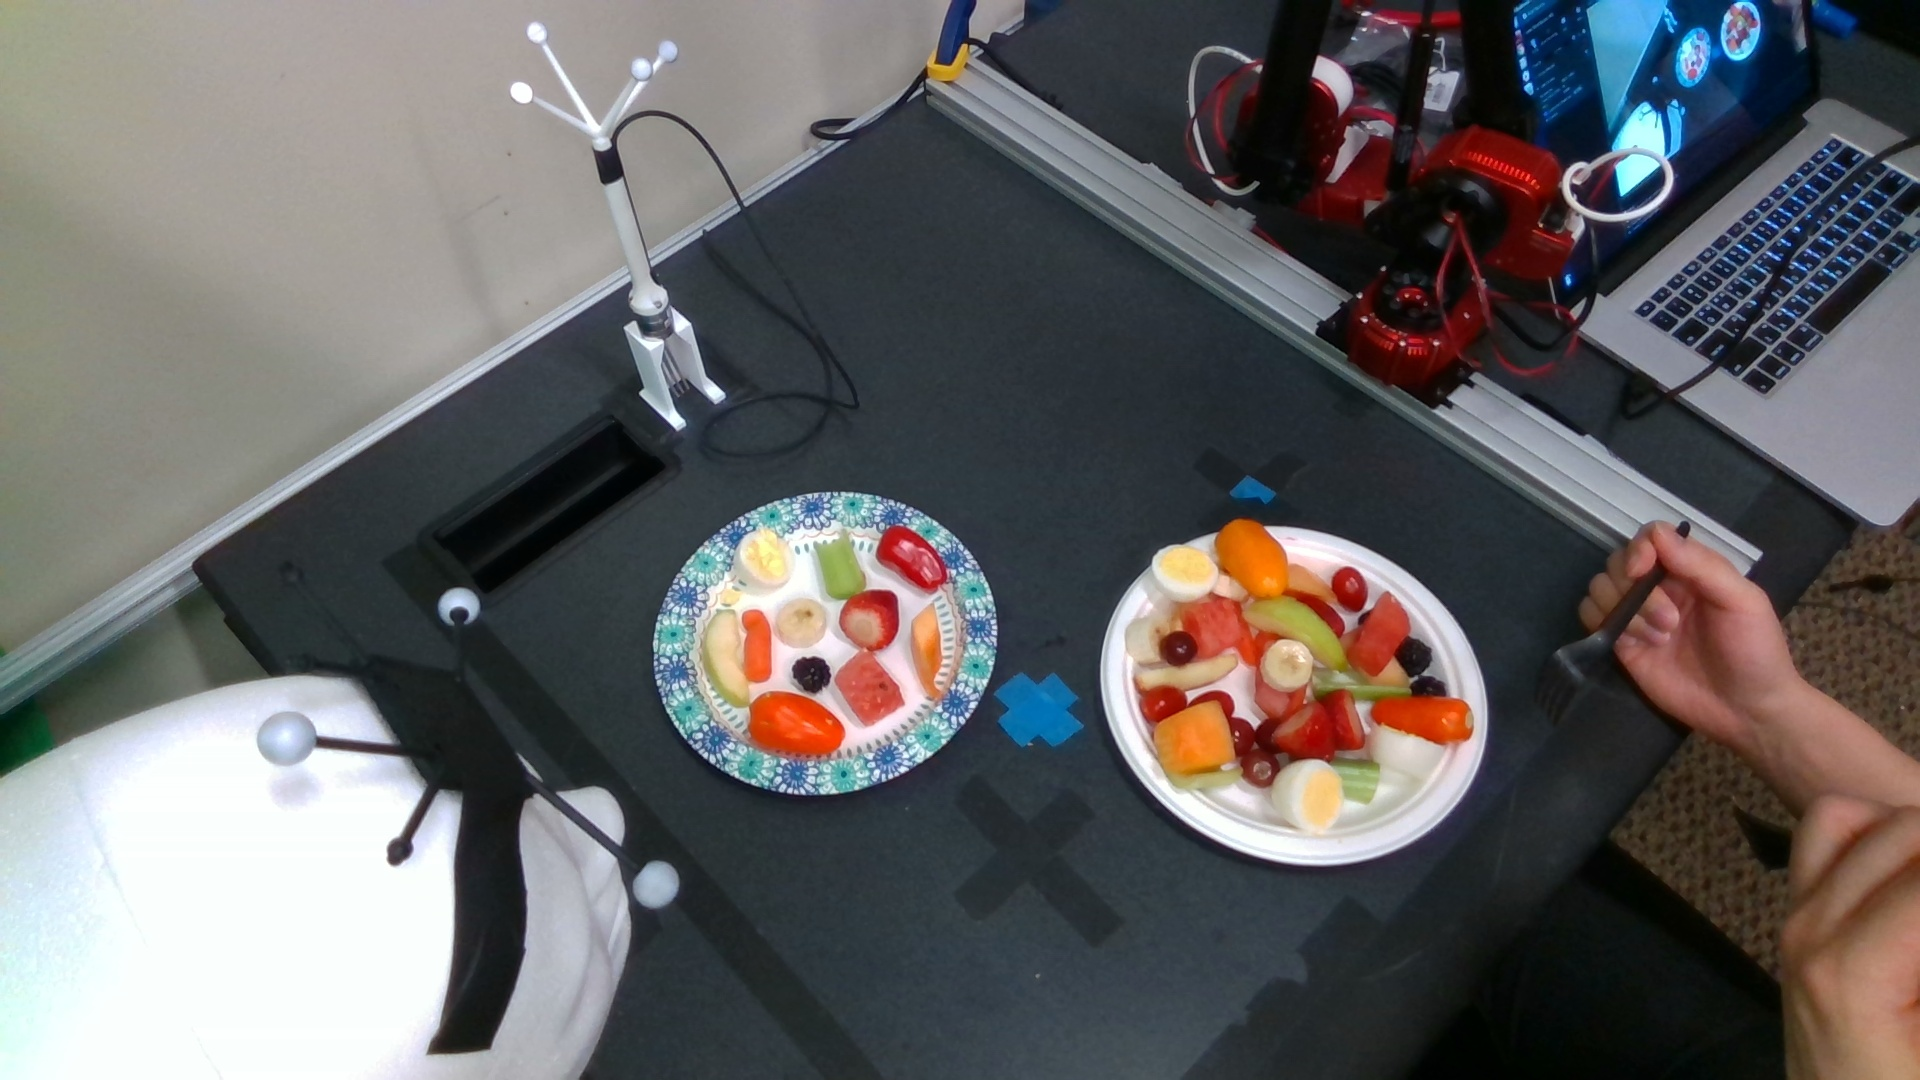apple: (1244, 597, 1349, 669), (702, 609, 753, 709)
banana: (777, 599, 827, 647), (1263, 640, 1315, 682)
bell_pepper: (750, 691, 845, 753), (1217, 520, 1288, 596), (1367, 696, 1473, 742), (876, 525, 945, 588)
blackberry: (793, 655, 831, 691), (1396, 638, 1431, 676)
cantalope: (1156, 702, 1233, 770), (910, 605, 945, 698)
carrot: (742, 609, 771, 680)
celery: (816, 531, 866, 599)
cherry_tomato: (1333, 566, 1367, 613), (1139, 686, 1188, 719)
egg: (1271, 760, 1342, 831), (1153, 545, 1217, 601), (736, 531, 795, 587)
grape_purple: (1242, 750, 1280, 787), (1162, 632, 1197, 665)
melon: (836, 647, 905, 724), (1349, 593, 1410, 675), (1184, 600, 1242, 659)
strawberry: (839, 589, 899, 651), (1273, 703, 1336, 760)
